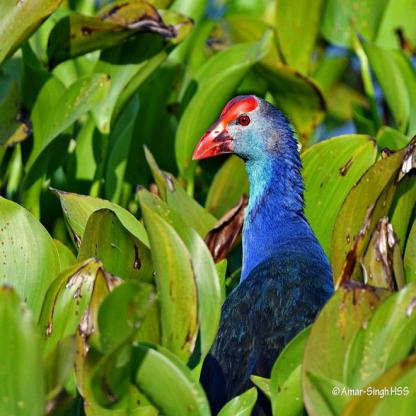Burung: (194, 95, 337, 415)
